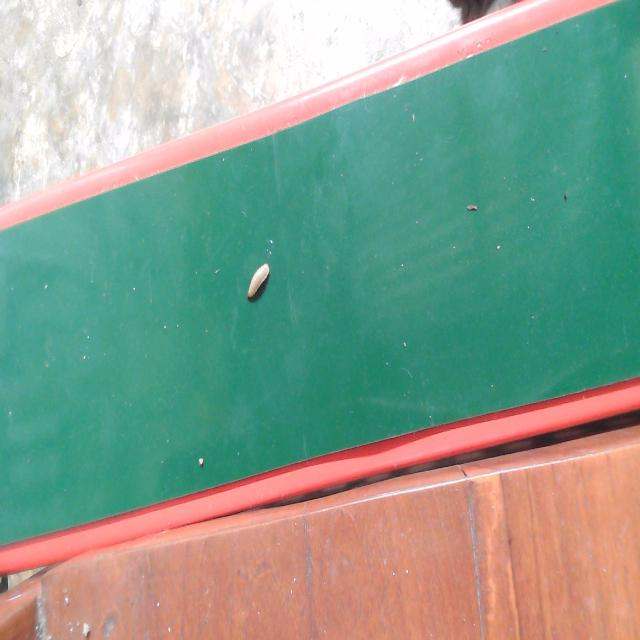Maggot: (244, 264, 270, 305)
